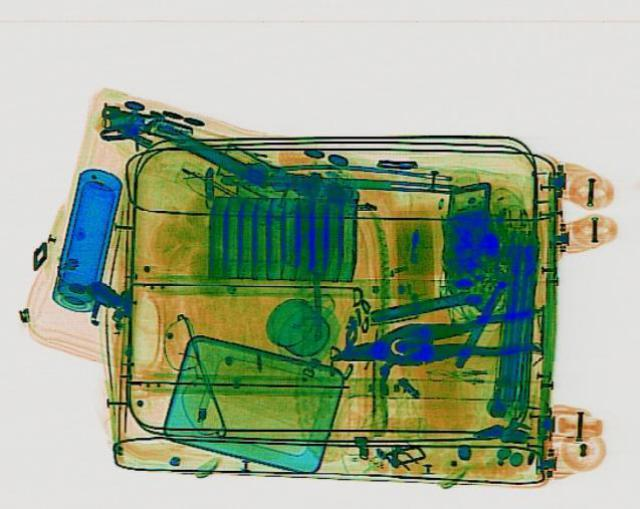Wrench: (323, 315, 479, 374)
